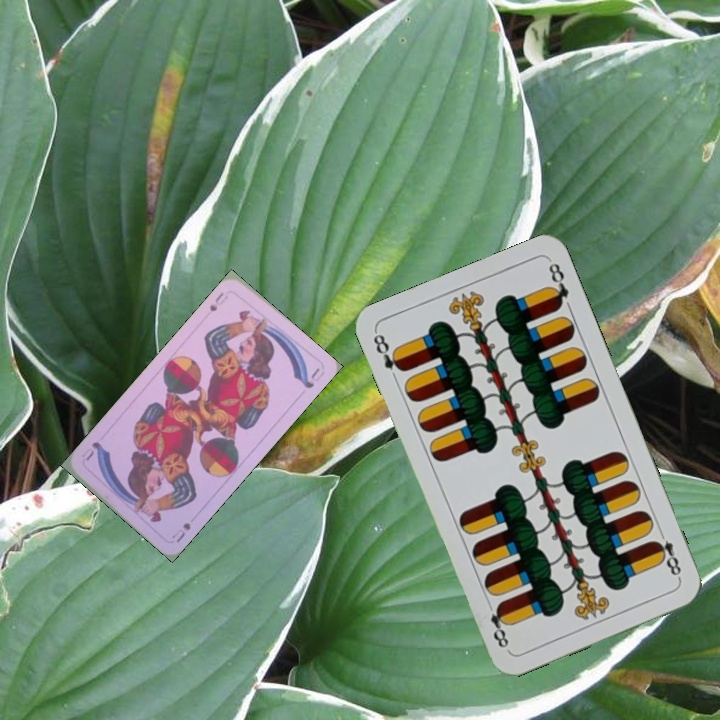E8: (649, 525, 684, 582), (369, 328, 407, 375)
SU: (168, 518, 193, 545), (205, 288, 230, 314)
